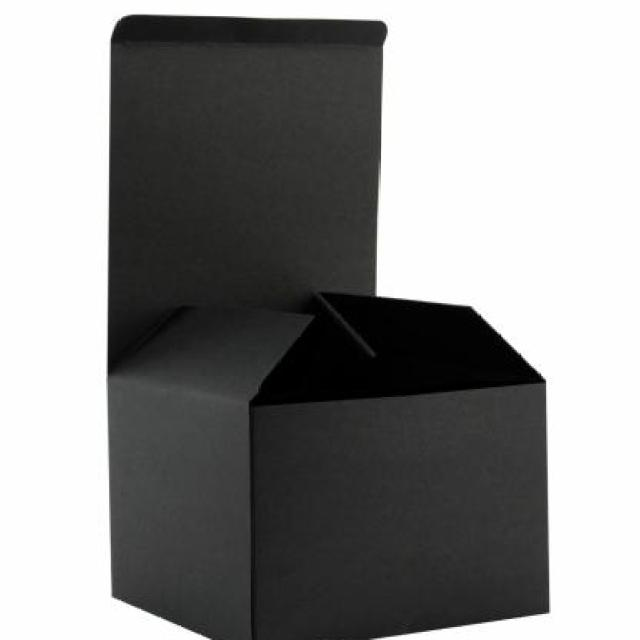box: (98, 8, 564, 640)
